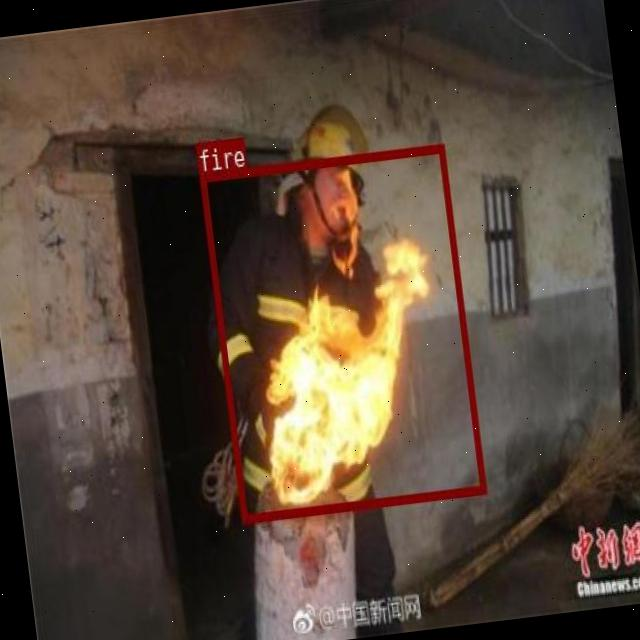fire: (198, 142, 485, 521)
